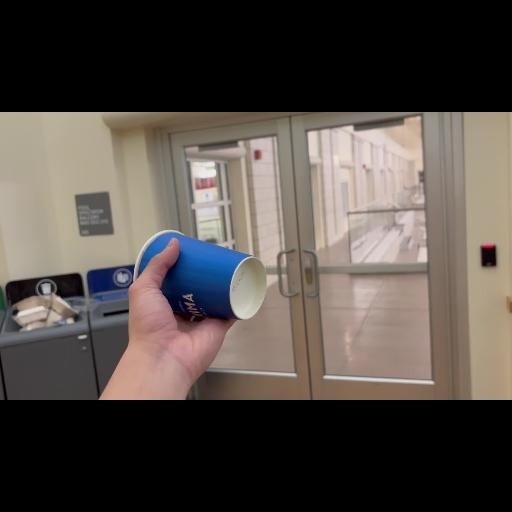lp_paper_cup: (130, 228, 268, 324)
